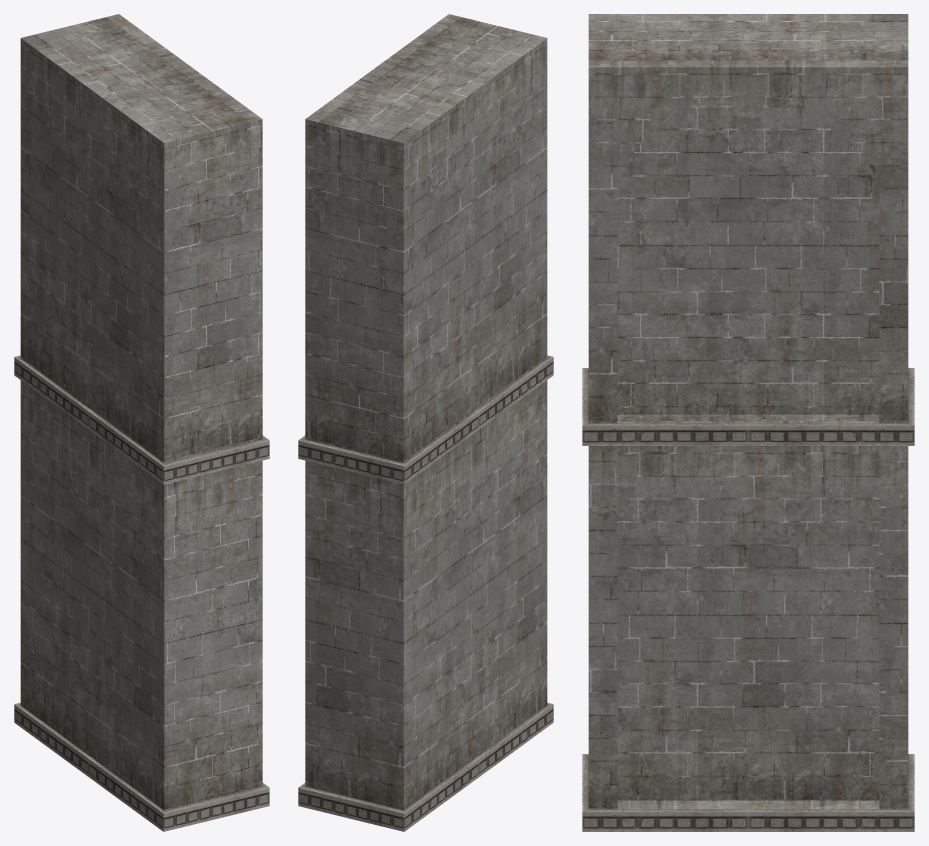
Rendered from bg_lut_lucastle_arena02_sm_ksh.FBX.
3 views of the same model, side by side, from view 1: azimuth 30°, elevation 25°; view 2: azimuth 150°, elevation 25°; view 3: azimuth 270°, elevation 25° (orthographic). The views are drawn at different scales.
Parts seen in each view (by area): view 1: bg_lut_lucastle_arena02_sm_ksh; view 2: bg_lut_lucastle_arena02_sm_ksh; view 3: bg_lut_lucastle_arena02_sm_ksh.
Boxes of the visible parts, x1,y1,x2,y2 form: bg_lut_lucastle_arena02_sm_ksh: (14,14,269,831); bg_lut_lucastle_arena02_sm_ksh: (298,14,553,831); bg_lut_lucastle_arena02_sm_ksh: (582,14,914,831).
Size of the model in its own units: 147 by 906 by 358.
